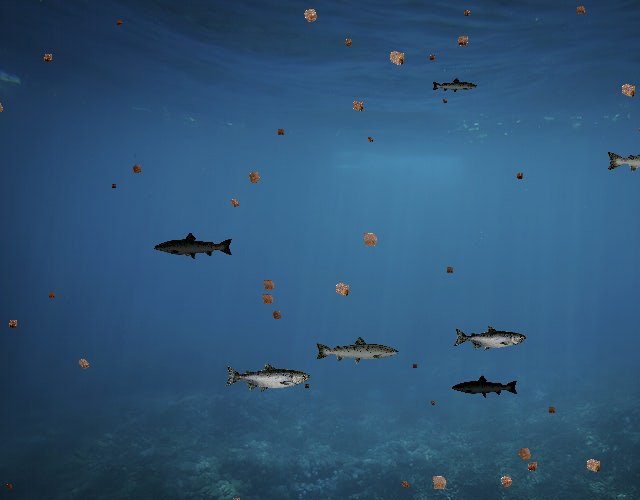Fish: (314, 335, 400, 366), (224, 362, 310, 393), (154, 232, 235, 261), (454, 326, 527, 352), (451, 375, 519, 399), (431, 77, 478, 94)
Pellet: (512, 441, 538, 467), (494, 469, 519, 494), (72, 353, 94, 375), (571, 1, 590, 20), (512, 169, 526, 183), (426, 51, 439, 64), (113, 16, 125, 28)
